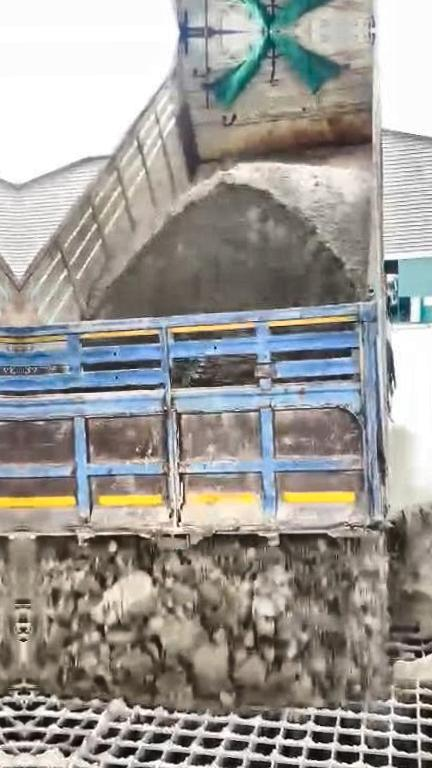sand: (29, 530, 388, 712), (103, 162, 379, 317), (384, 494, 432, 682), (178, 357, 255, 388)
